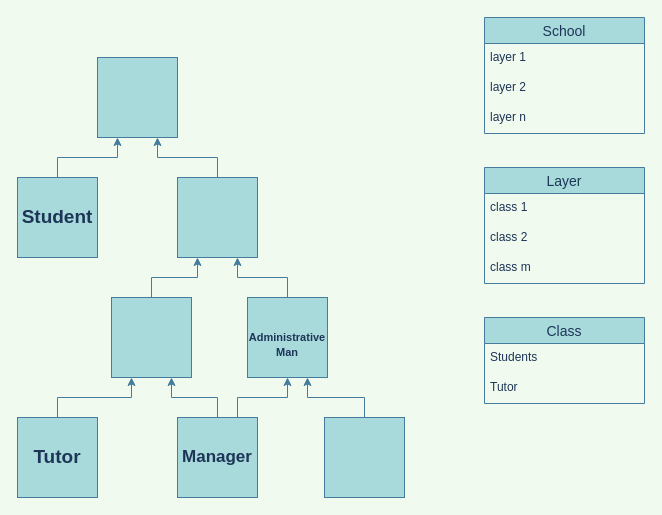
Image size: 662x515. Some labels were removed from this diagram. Here are the shapes that lost their labels. From the top down, the centre of each, then its label:
the point at 137,97: Person
the point at 217,217: Worker
the point at 151,337: Teacher
the point at 364,457: Secretary
